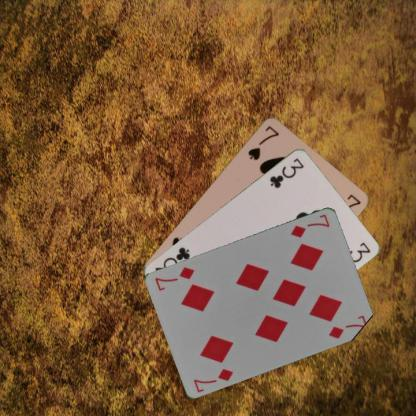3c: (267, 155, 306, 189)
7d: (191, 365, 235, 393), (288, 211, 331, 239)
7s: (245, 123, 280, 161)
